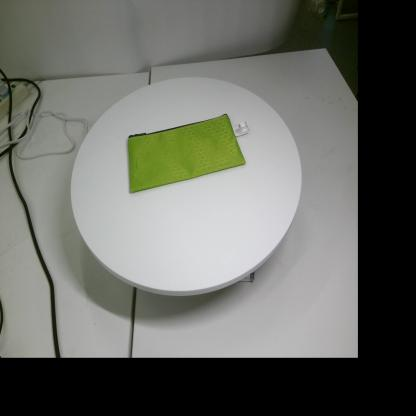Stationery: (128, 114, 249, 193)
